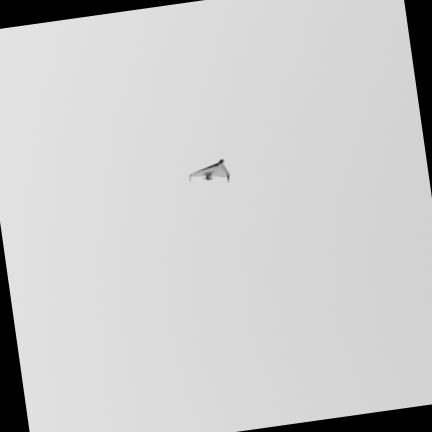Shahed: (189, 159, 228, 180)
